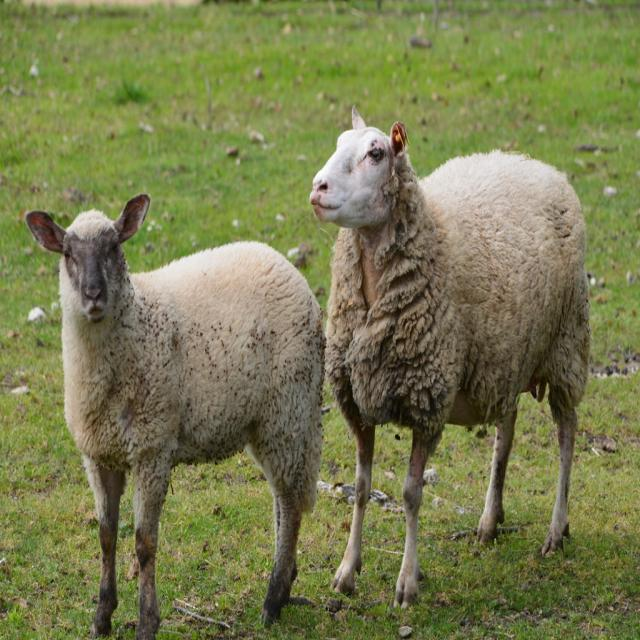Sheep: (303, 115, 599, 599), (26, 196, 324, 640)
